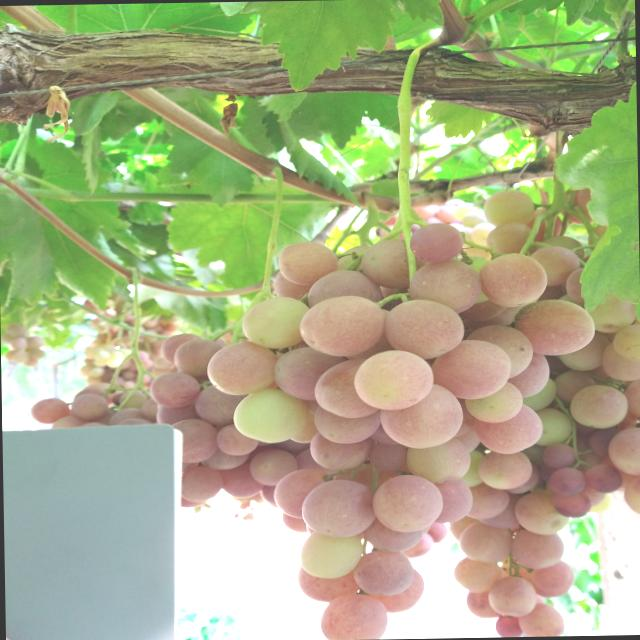grapes: (298, 294, 386, 358), (379, 382, 464, 448), (382, 298, 464, 359), (430, 338, 512, 399), (353, 349, 434, 410), (514, 298, 594, 356), (302, 478, 376, 538), (272, 345, 350, 401), (233, 387, 309, 444), (314, 357, 381, 419), (408, 258, 482, 314), (372, 474, 442, 533), (208, 340, 278, 396), (478, 252, 548, 307), (465, 324, 533, 380), (473, 402, 544, 454), (242, 296, 310, 349), (360, 238, 428, 290), (318, 593, 388, 640), (404, 436, 472, 484), (274, 468, 336, 519), (299, 532, 363, 579), (354, 549, 414, 596), (308, 269, 382, 307), (278, 241, 338, 286), (316, 403, 380, 444), (368, 566, 424, 612), (570, 384, 628, 428), (464, 381, 524, 423), (310, 430, 373, 470), (512, 559, 576, 598), (296, 564, 359, 602), (514, 492, 569, 535), (585, 288, 638, 332), (409, 222, 463, 264), (458, 521, 512, 563), (510, 526, 564, 568), (194, 384, 249, 425), (558, 331, 612, 372), (363, 516, 423, 552), (477, 451, 532, 490), (506, 351, 550, 398), (171, 418, 217, 462), (430, 477, 473, 523), (488, 576, 537, 616), (530, 246, 580, 285), (483, 190, 534, 228), (218, 456, 264, 498), (249, 448, 299, 486), (174, 339, 222, 377), (461, 482, 509, 520), (150, 372, 200, 408), (452, 556, 502, 592), (454, 256, 490, 304), (476, 493, 522, 529), (518, 602, 564, 636), (601, 340, 640, 380), (521, 208, 562, 246), (608, 426, 640, 474), (534, 408, 572, 447), (536, 236, 584, 266), (554, 368, 596, 402), (486, 222, 530, 254), (181, 468, 222, 502), (216, 424, 258, 456), (330, 462, 378, 490), (274, 270, 316, 300), (162, 332, 199, 366), (521, 378, 557, 411), (585, 463, 624, 493), (336, 244, 372, 276), (199, 446, 249, 469), (73, 382, 123, 405), (562, 188, 593, 225), (369, 441, 406, 472), (455, 450, 485, 488), (458, 298, 506, 321), (290, 405, 318, 443), (31, 396, 68, 424), (466, 590, 502, 618), (548, 466, 584, 494), (554, 492, 592, 518), (613, 324, 640, 360), (72, 393, 108, 420), (399, 532, 432, 558), (542, 443, 576, 468), (621, 471, 640, 515), (157, 404, 194, 426), (508, 468, 537, 494), (623, 376, 640, 420), (297, 447, 328, 471), (453, 427, 480, 454), (448, 515, 476, 541), (566, 268, 586, 302), (470, 222, 496, 248), (578, 188, 600, 217), (371, 422, 398, 445), (590, 428, 612, 456), (106, 408, 140, 426), (282, 510, 308, 532), (496, 615, 522, 637), (119, 389, 146, 408), (51, 414, 86, 428), (424, 522, 448, 542), (461, 210, 486, 228), (410, 204, 435, 220), (436, 205, 457, 224), (140, 398, 158, 420), (82, 300, 104, 316), (454, 206, 474, 222), (10, 336, 28, 351), (454, 420, 469, 438), (180, 498, 204, 508), (27, 336, 44, 350), (11, 351, 29, 364), (379, 214, 398, 226), (8, 327, 25, 338), (28, 348, 46, 358), (380, 226, 392, 240), (308, 398, 320, 412), (1, 333, 16, 344), (5, 348, 18, 360), (533, 593, 546, 605), (6, 323, 20, 334), (112, 392, 124, 404), (444, 198, 464, 205), (80, 422, 106, 427), (24, 358, 38, 367), (121, 370, 133, 380), (163, 323, 177, 331), (143, 320, 157, 327), (411, 223, 420, 232), (306, 524, 313, 534)
